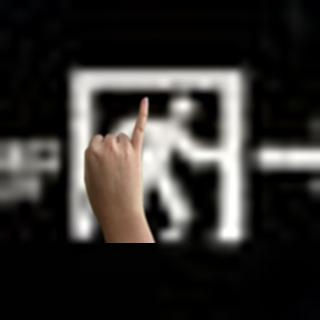Fine: (74, 91, 166, 244)
